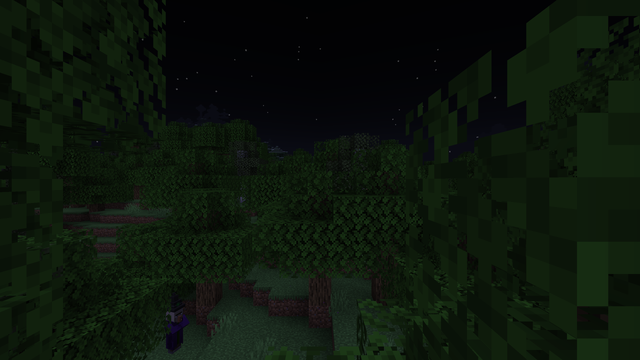sorcieres: (163, 303, 184, 354)
